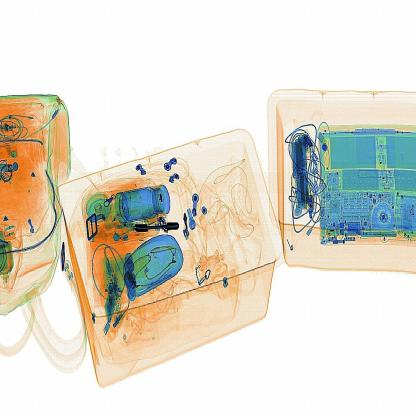knife: (126, 218, 186, 241)
